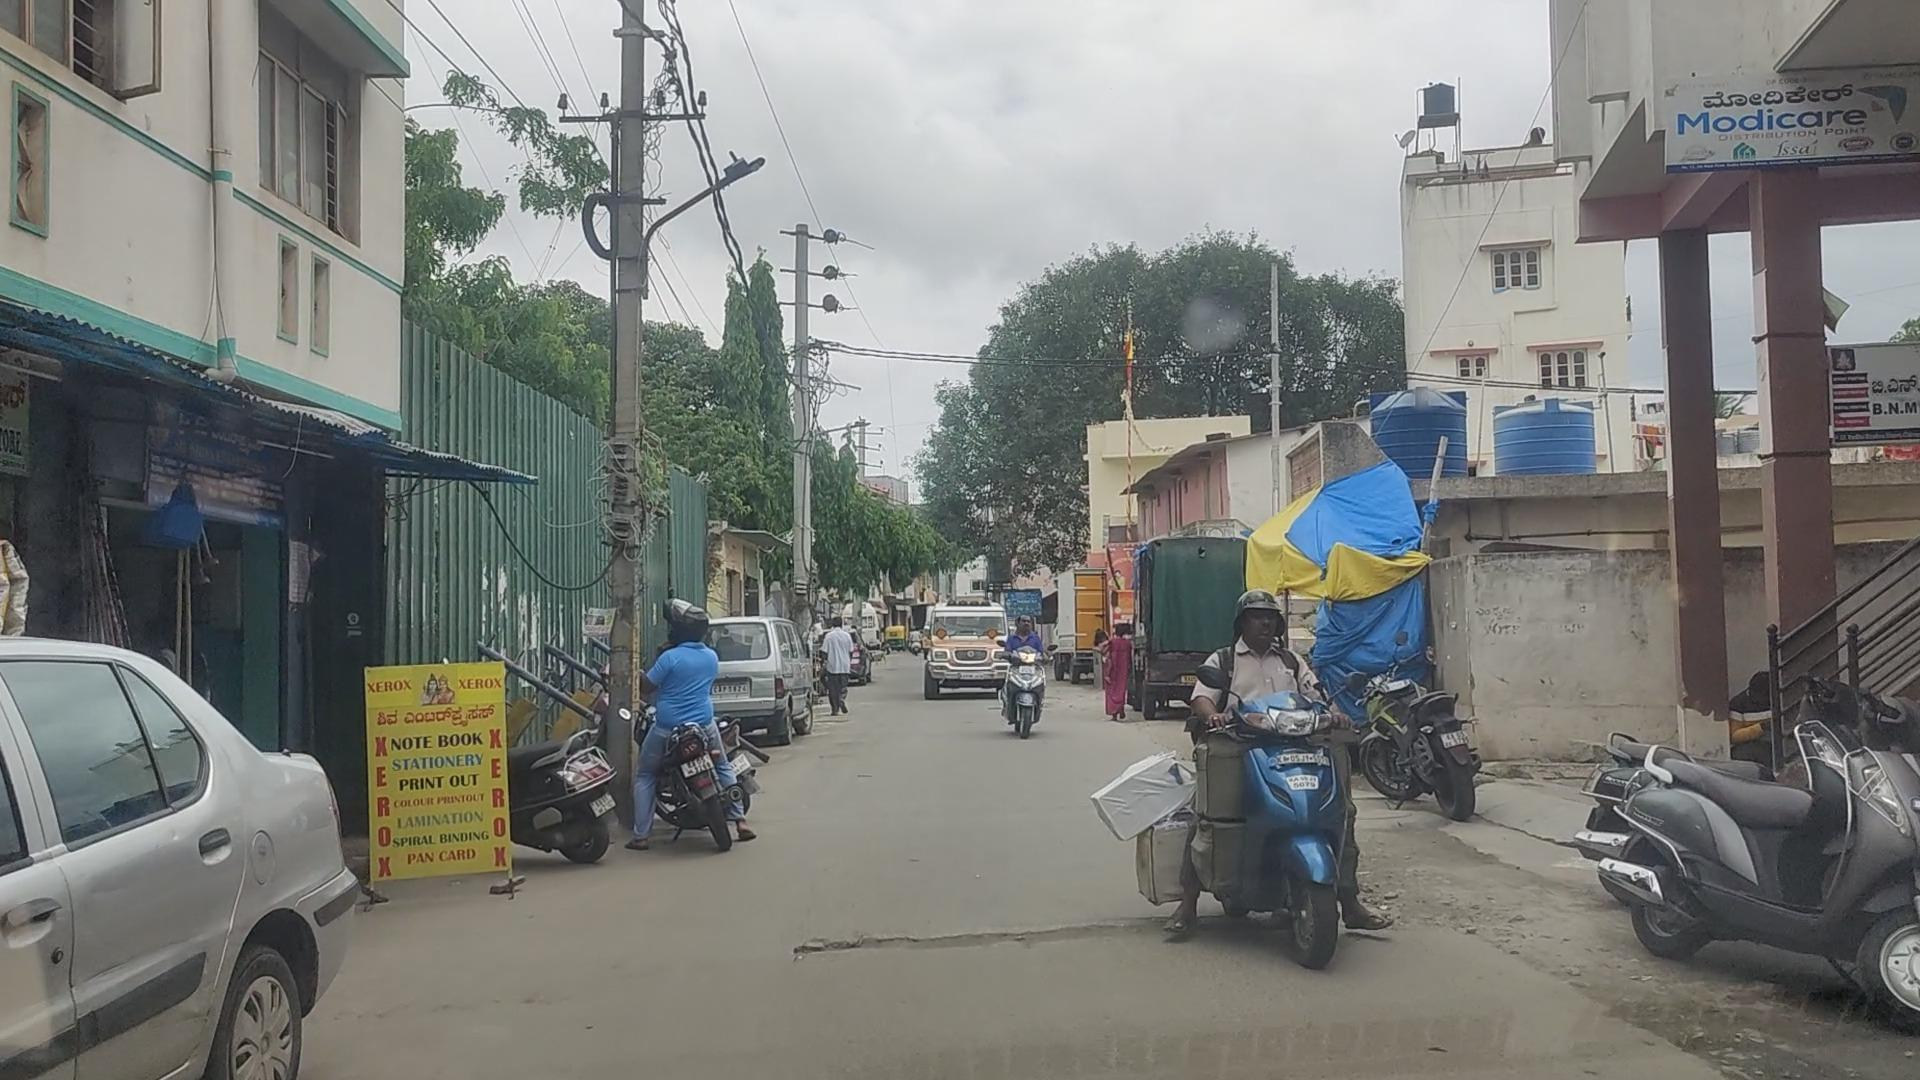LMV: (633, 593, 745, 857), (997, 615, 1046, 740)
RoadDamages: (774, 891, 1183, 972)
